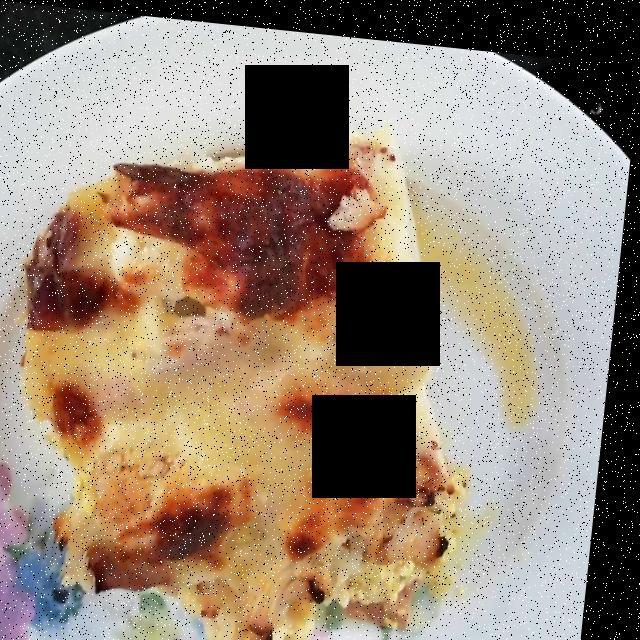lasagne: (35, 133, 453, 640)
